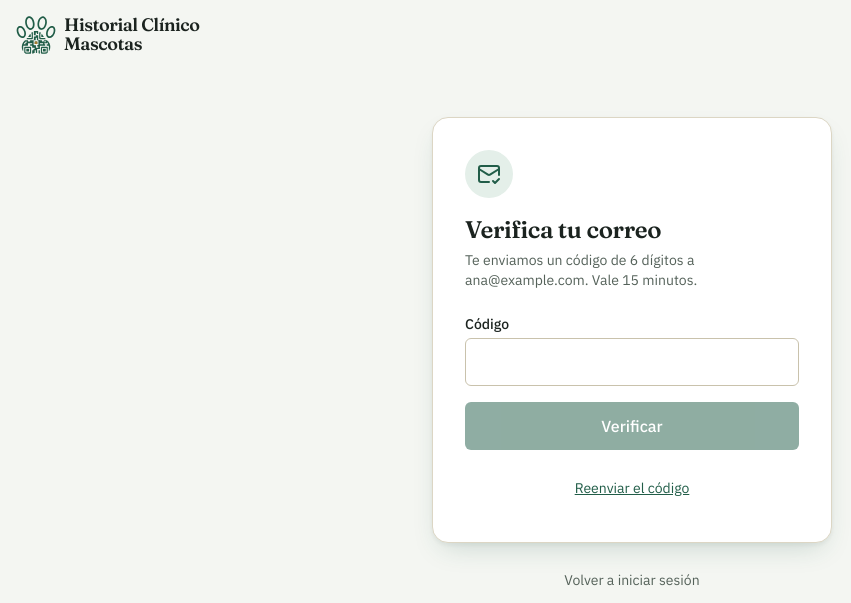
Scenario: PaginaVerificacionCorreo › solo habilita Verificar con 6 dígitos y descarta lo que no es número
The image size is (851, 603).
Type "12ab34" into the field labelled "Código". click: (632, 362)
box: [465, 338, 799, 386]
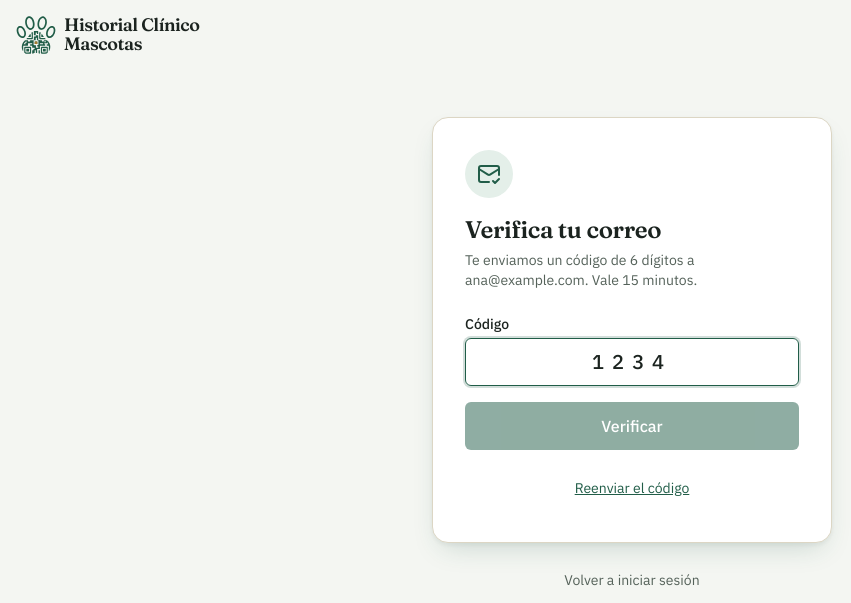
Expected: the button "Verificar" is disabled, [465, 402, 799, 450]
Expected: the field labelled "Código" holds "1234"
Type "56" into the field labelled "Código". click: (632, 362)
box: [465, 338, 799, 386]
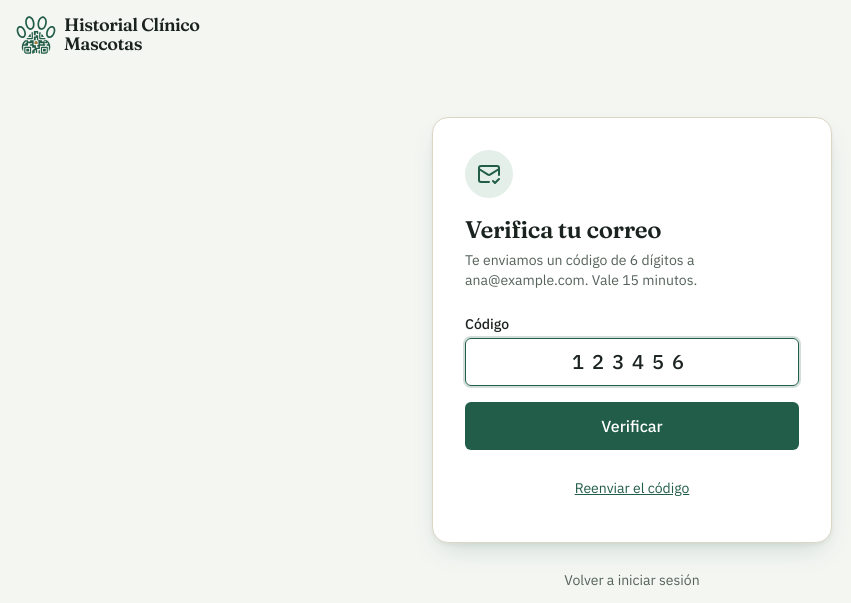
Expected: the button "Verificar" is enabled, [465, 402, 799, 450]
